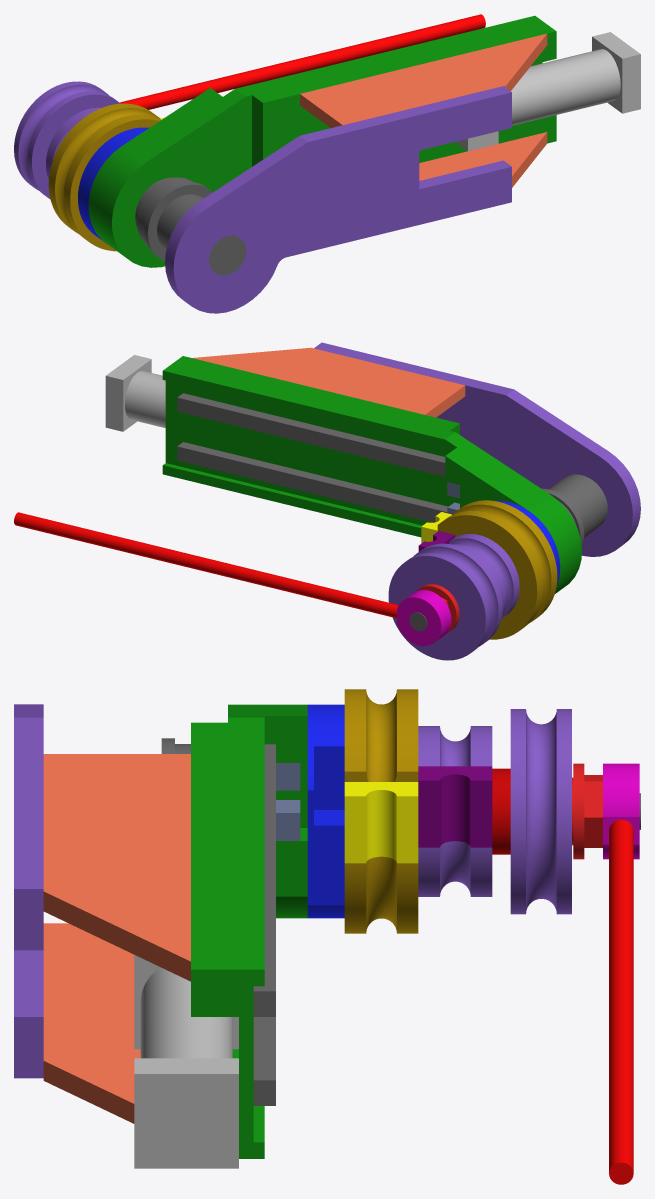
File: mengene_alt.glb
3 views of the same model, one above another, from view 1: azimuth 30°, elevation 25°; view 2: azimuth 150°, elevation 25°; view 3: azimuth 270°, elevation 25° (orthographic). The views are drawn at different scales.
Visible parts, largest first — view 1: 02 - 04 - B\X\DCK\X\DCM ALT KOLU, 02 - 03 - B\X\DCK\X\DCM KOLU, 02 - 05 - SOL YAN KAPAK, 02 - 22 - MENGENE ARKA KAFA, 200x25 MAKARA, 04 - 23 - GERD\X2\0130\X0\RME SAPLAMA, 140 - 200 - AVARE MAKARA-FENR M\X2\0130\X0\L\X2\0130\X0\, 01 - 01 - ANA M\X2\0130\X0\L, 02 - 06 - SA\X2\011E\X0\ YAN KAPAK, 02 - 37 - KALIP Y\X\DCKSELT\X2\0130\X0\C\X2\0130\X0\, 140x25 MAKARA; view 2: 02 - 03 - B\X\DCK\X\DCM KOLU, 02 - 04 - B\X\DCK\X\DCM ALT KOLU, 02 - 05 - SOL YAN KAPAK, 140 - 200 - AVARE MAKARA-FENR M\X2\0130\X0\L\X2\0130\X0\, 200x25 MAKARA, 04 - 23 - GERD\X2\0130\X0\RME SAPLAMA, THK 25 - RAY003, THK 25 - RAY002, 02 - 22 - MENGENE ARKA KAFA, 01 - 01 - ANA M\X2\0130\X0\L, 04 - 21 - GERD\X2\0130\X0\RME B\X2\0130\X0\LEZ\X2\0130\X0\K, 140x25 MAKARA (+2 smaller); view 3: 02 - 03 - B\X\DCK\X\DCM KOLU, 02 - 05 - SOL YAN KAPAK, 02 - 22 - MENGENE ARKA KAFA, 02 - 06 - SA\X2\011E\X0\ YAN KAPAK, 140 - 200 - AVARE MAKARA-FENR M\X2\0130\X0\L\X2\0130\X0\, 200x25 MAKARA, 02 - 04 - B\X\DCK\X\DCM ALT KOLU, 04 - 23 - GERD\X2\0130\X0\RME SAPLAMA, 02 - 37 - KALIP Y\X\DCKSELT\X2\0130\X0\C\X2\0130\X0\, 140x25 MAKARA, 25X140 D\X2\0130015E0130\X0\ \X\C7ENE, 200X25 -D\X2\0130015E0130\X0\ \X\C7ENE-ALT (+7 smaller).
Boxes of the visible parts, x1,y1,x2,y2 form: 02 - 04 - B\X\DCK\X\DCM ALT KOLU: [165, 86, 511, 313]; 02 - 03 - B\X\DCK\X\DCM KOLU: [88, 15, 556, 267]; 02 - 05 - SOL YAN KAPAK: [300, 33, 547, 127]; 02 - 22 - MENGENE ARKA KAFA: [455, 32, 640, 151]; 200x25 MAKARA: [48, 103, 160, 251]; 04 - 23 - GERD\X2\0130\X0\RME SAPLAMA: [119, 14, 485, 109]; 140 - 200 - AVARE MAKARA-FENR M\X2\0130\X0\L\X2\0130\X0\: [14, 81, 120, 199]; 01 - 01 - ANA M\X2\0130\X0\L: [135, 177, 246, 275]; 02 - 06 - SA\X2\011E\X0\ YAN KAPAK: [419, 132, 547, 187]; 02 - 37 - KALIP Y\X\DCKSELT\X2\0130\X0\C\X2\0130\X0\: [78, 127, 148, 244]; 140x25 MAKARA: [46, 107, 100, 179]; 02 - 03 - B\X\DCK\X\DCM KOLU: [162, 356, 581, 593]; 02 - 04 - B\X\DCK\X\DCM ALT KOLU: [314, 342, 640, 556]; 02 - 05 - SOL YAN KAPAK: [192, 347, 465, 417]; 140 - 200 - AVARE MAKARA-FENR M\X2\0130\X0\L\X2\0130\X0\: [388, 543, 502, 660]; 200x25 MAKARA: [437, 500, 557, 639]; 04 - 23 - GERD\X2\0130\X0\RME SAPLAMA: [14, 512, 398, 618]; THK 25 - RAY003: [177, 393, 445, 476]; THK 25 - RAY002: [177, 442, 448, 522]; 02 - 22 - MENGENE ARKA KAFA: [105, 355, 165, 431]; 01 - 01 - ANA M\X2\0130\X0\L: [542, 474, 607, 546]; 04 - 21 - GERD\X2\0130\X0\RME B\X2\0130\X0\LEZ\X2\0130\X0\K: [397, 590, 451, 646]; 140x25 MAKARA: [449, 534, 519, 618]; 02 - 03 - B\X\DCK\X\DCM KOLU: [191, 704, 307, 1158]; 02 - 05 - SOL YAN KAPAK: [43, 754, 190, 981]; 02 - 22 - MENGENE ARKA KAFA: [134, 955, 238, 1168]; 02 - 06 - SA\X2\011E\X0\ YAN KAPAK: [43, 923, 140, 1123]; 140 - 200 - AVARE MAKARA-FENR M\X2\0130\X0\L\X2\0130\X0\: [510, 709, 571, 914]; 200x25 MAKARA: [344, 689, 418, 933]; 02 - 04 - B\X\DCK\X\DCM ALT KOLU: [14, 704, 43, 1078]; 04 - 23 - GERD\X2\0130\X0\RME SAPLAMA: [609, 819, 633, 1184]; 02 - 37 - KALIP Y\X\DCKSELT\X2\0130\X0\C\X2\0130\X0\: [307, 704, 344, 918]; 140x25 MAKARA: [418, 726, 492, 896]; 25X140 D\X2\0130015E0130\X0\ \X\C7ENE: [418, 766, 492, 847]; 200X25 -D\X2\0130015E0130\X0\ \X\C7ENE-ALT: [344, 782, 418, 863].
Bounding box in the file's own units: 0.8244 × 0.2445 × 0.51.
